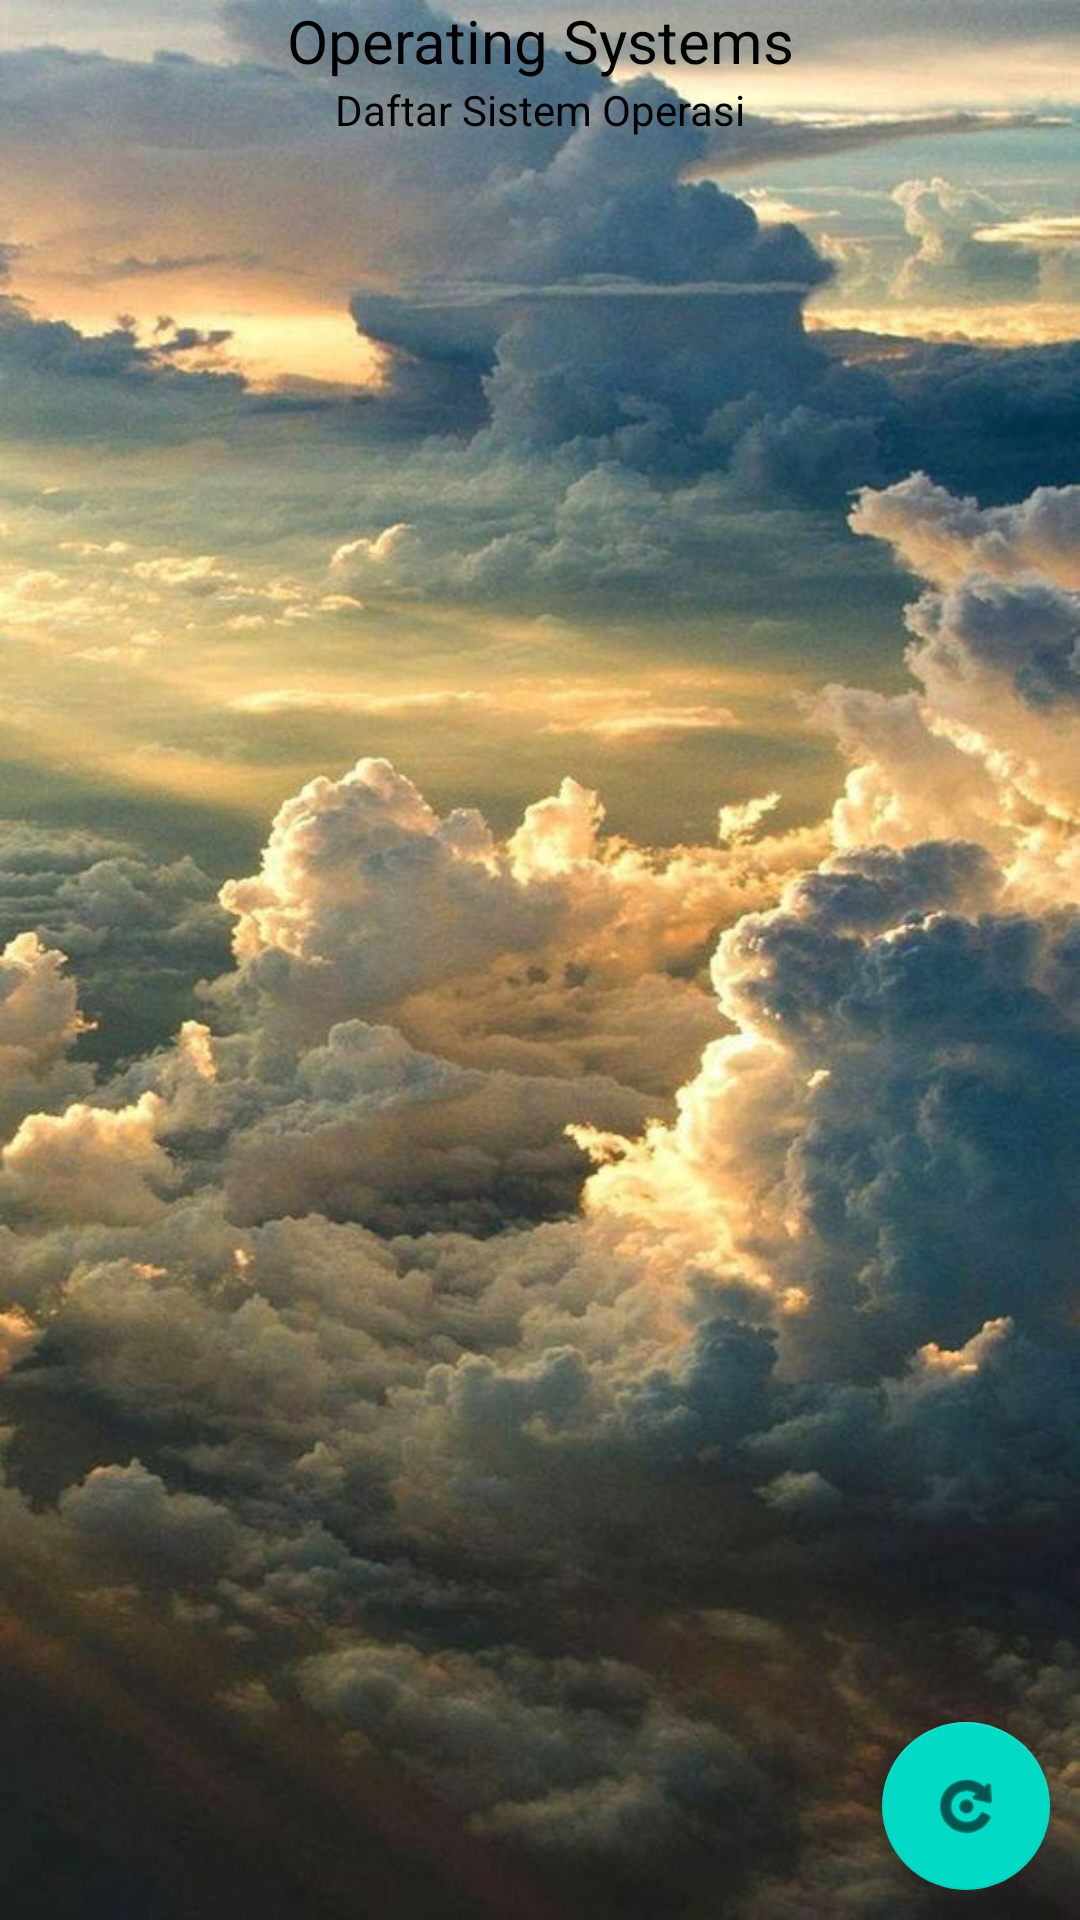

Screen size 1080*1920. Icon name, then its center in pixels as (x,y):
rotate: (966,1806)
